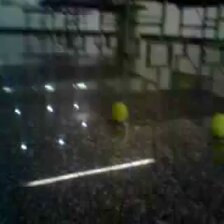tennis: (111, 102, 129, 125)
